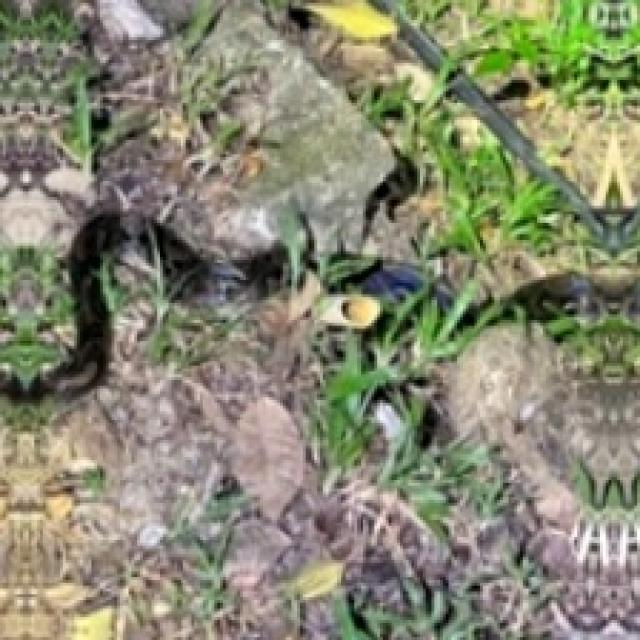reticulated python: (89, 6, 399, 303), (2, 202, 210, 396), (504, 271, 640, 322), (362, 265, 424, 301)
